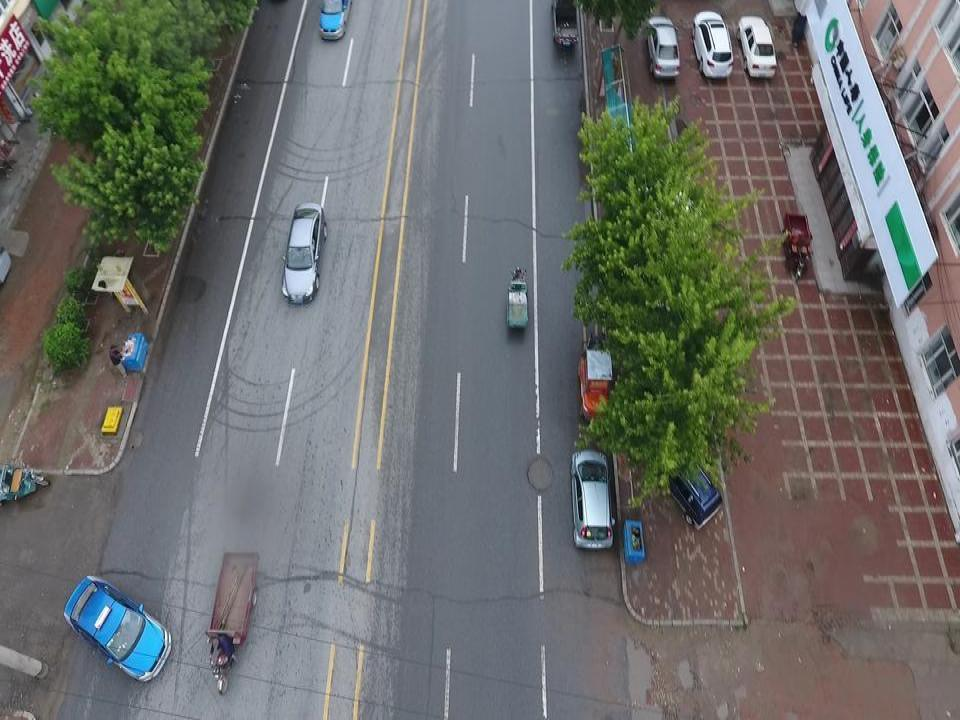car: (56, 572, 173, 684), (655, 455, 724, 525), (571, 446, 615, 550), (283, 199, 325, 301), (690, 8, 733, 79), (738, 15, 777, 81), (645, 17, 681, 80), (318, 1, 349, 38)
